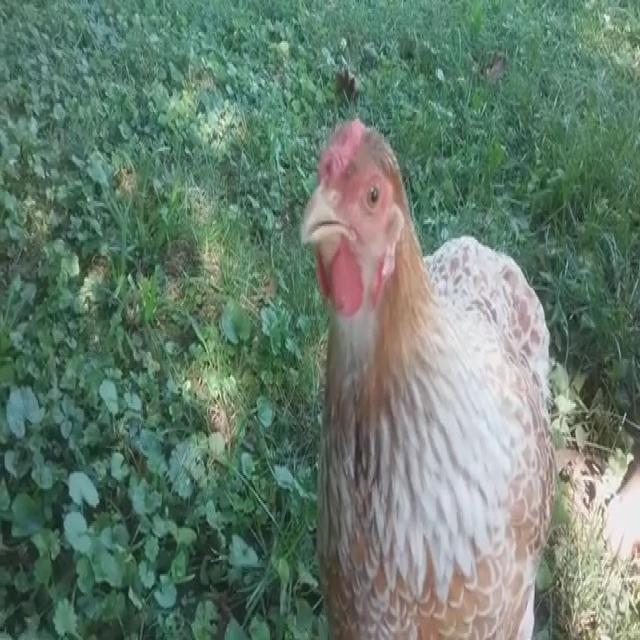Breathing: (299, 114, 557, 638)
